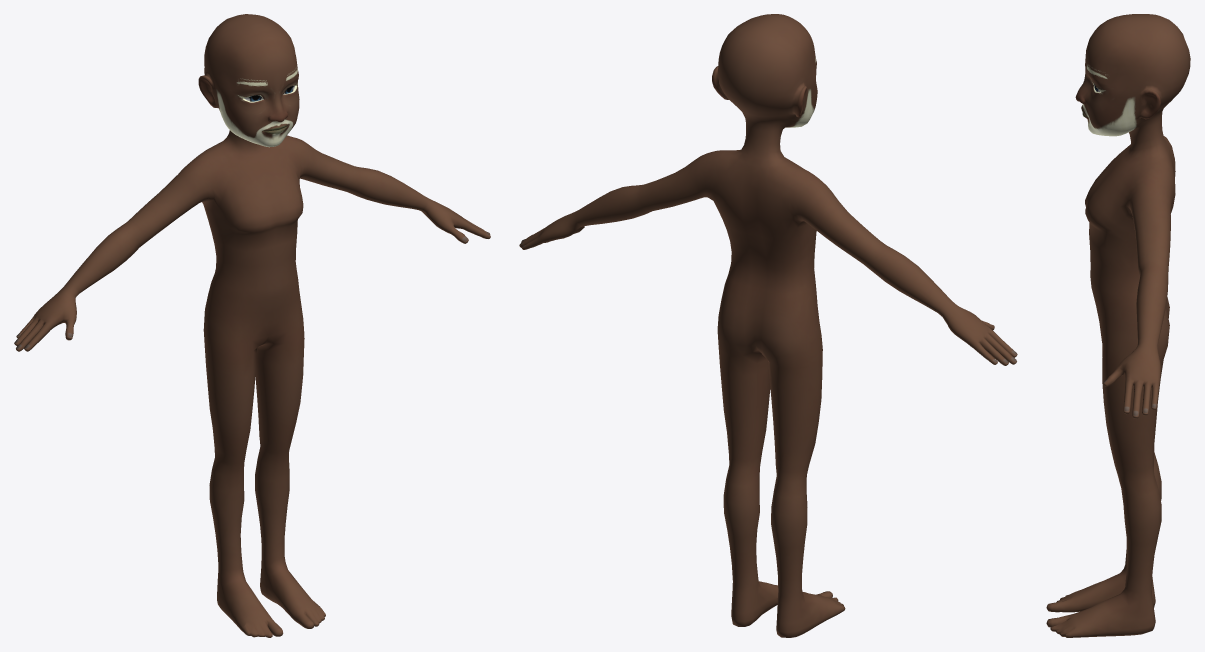
Rendered from frame_0058.glb.
3 views of the same model, side by side, from view 1: azimuth 30°, elevation 25°; view 2: azimuth 150°, elevation 25°; view 3: azimuth 270°, elevation 25° (orthographic). The views are drawn at different scales.
Visible parts, largest first — view 1: frame_0058_head_geo; view 2: frame_0058_head_geo; view 3: frame_0058_head_geo.
Boxes of the visible parts, <box> form: frame_0058_head_geo: <box>14,14,490,637</box>; frame_0058_head_geo: <box>519,14,1017,637</box>; frame_0058_head_geo: <box>1046,14,1190,637</box>.
Size of the model in its own units: 1.28 by 1.5 by 0.3253.
Materials: 3 (3 with a texture image).
